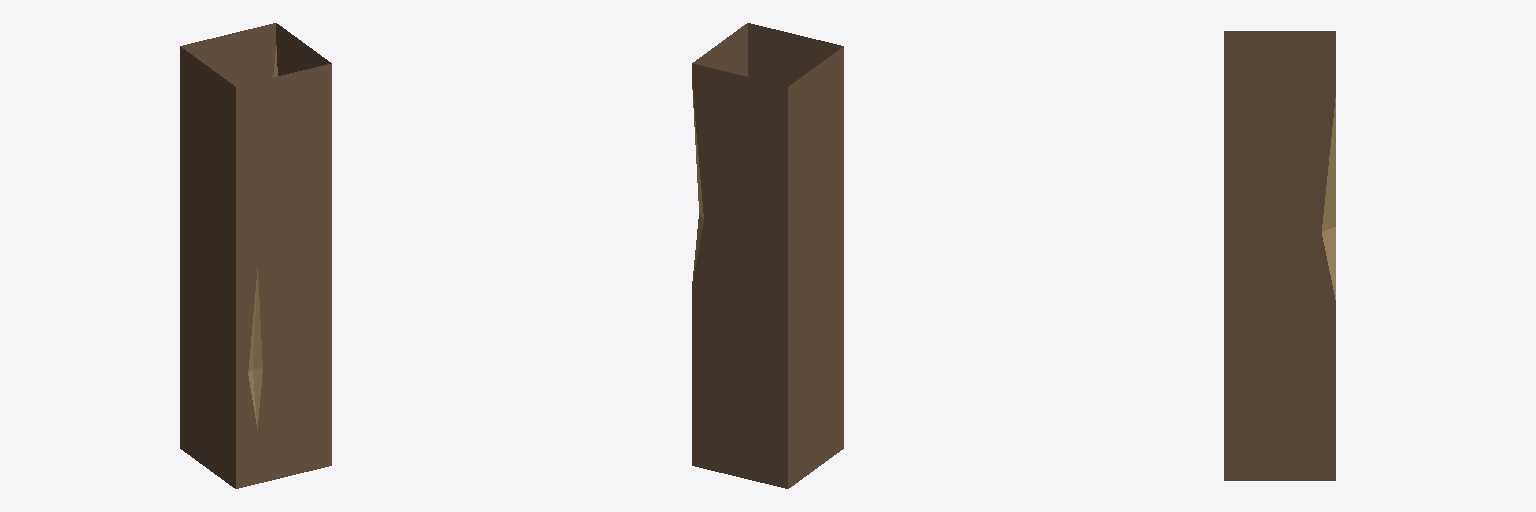
The model's file is Cave_Prop_Support_Wall_Pillar_2.obj.
3 renders of one model, left to right at view 1: azimuth 30°, elevation 25°; view 2: azimuth 150°, elevation 25°; view 3: azimuth 270°, elevation 25°, orthographic.
Visible parts, largest first — view 1: object1; view 2: object1; view 3: object1.
Part boxes in pixels (bbox=[...]): object1: bbox=[180, 23, 331, 488]; object1: bbox=[692, 23, 843, 488]; object1: bbox=[1224, 31, 1335, 480].
Size of the model in its own units: 0.25 by 1 by 0.25.